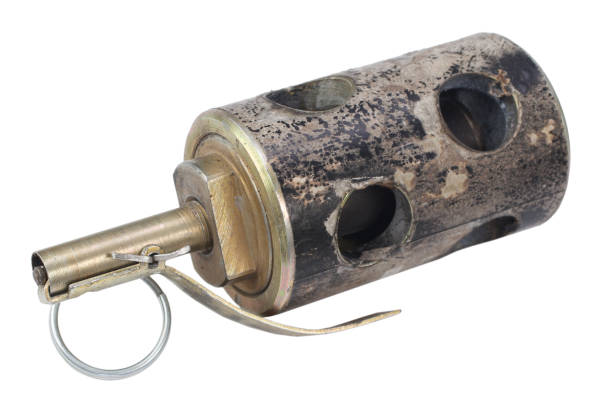e1: (30, 32, 569, 378)
